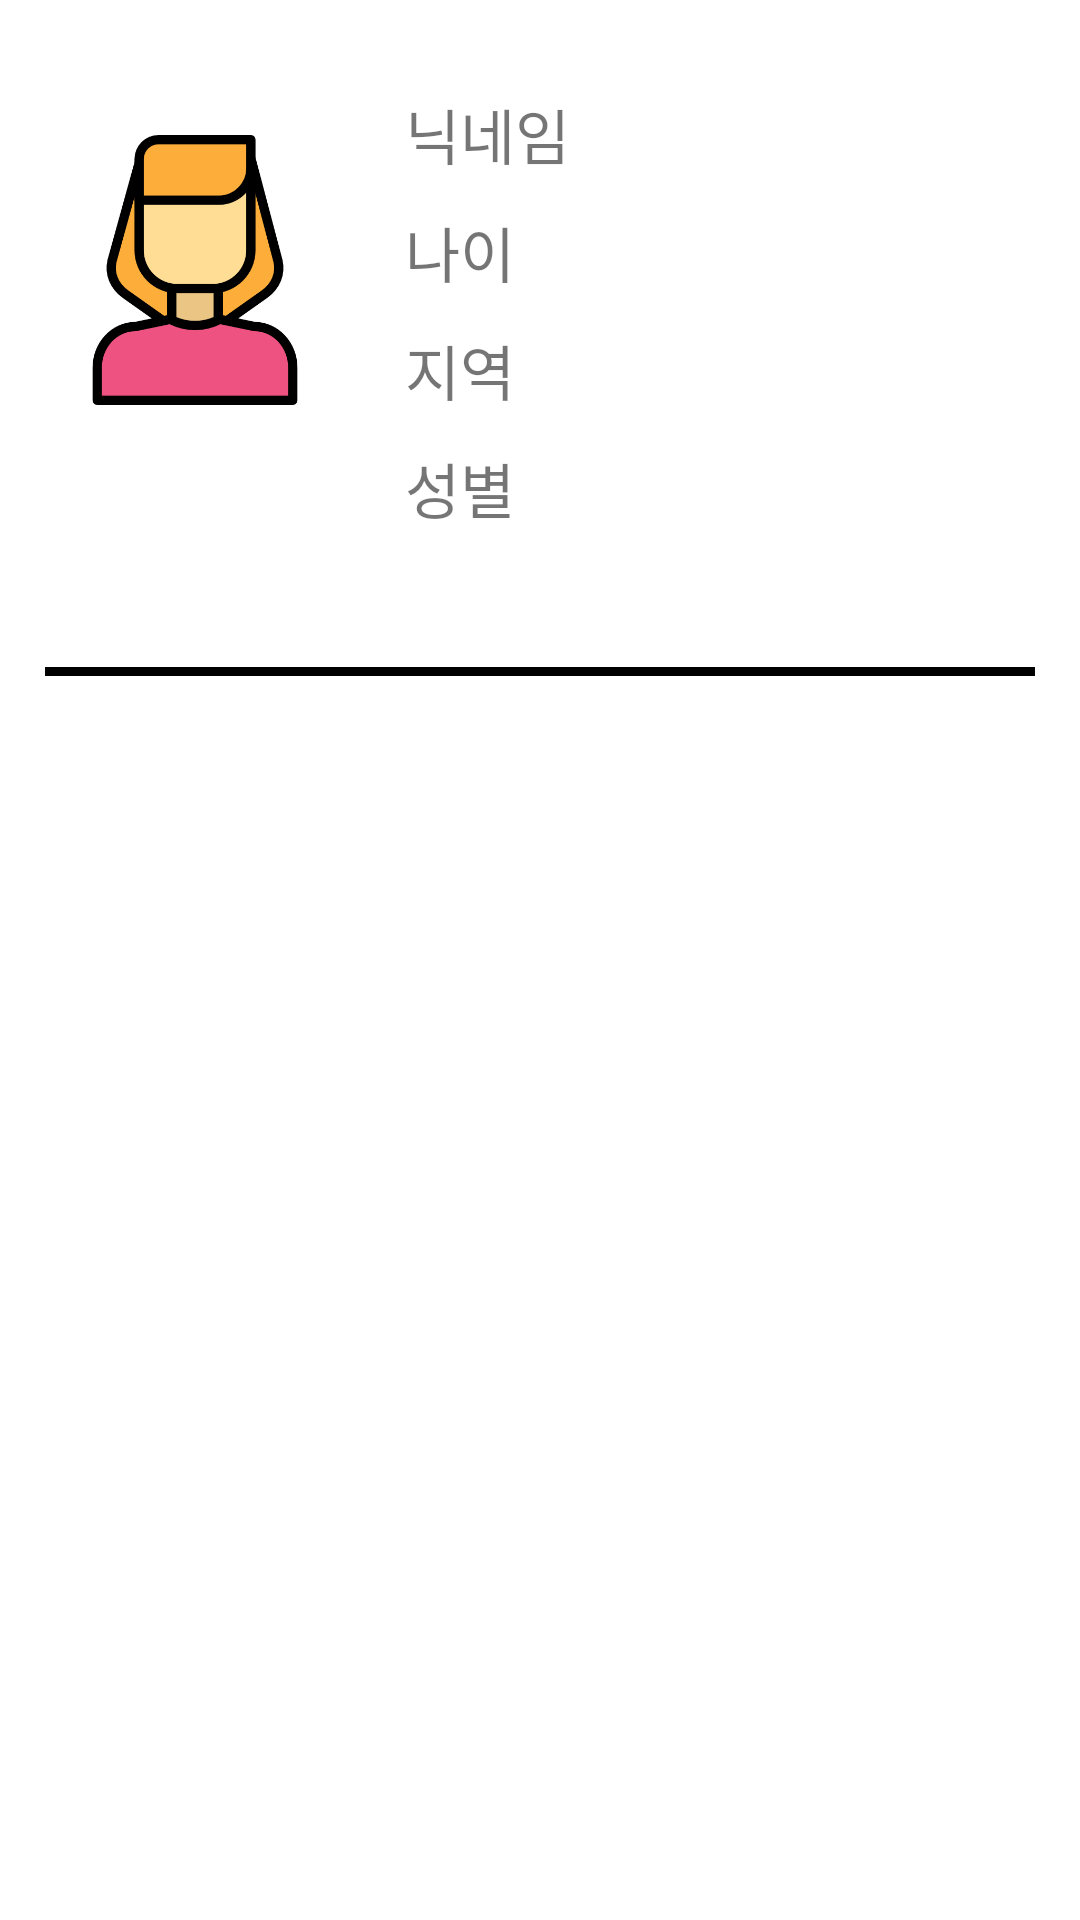

Named icons in this screenshot (1080×1920) and their bounding boxes, (x1, y1, x2, y2):
woman: (92, 135, 298, 405)
